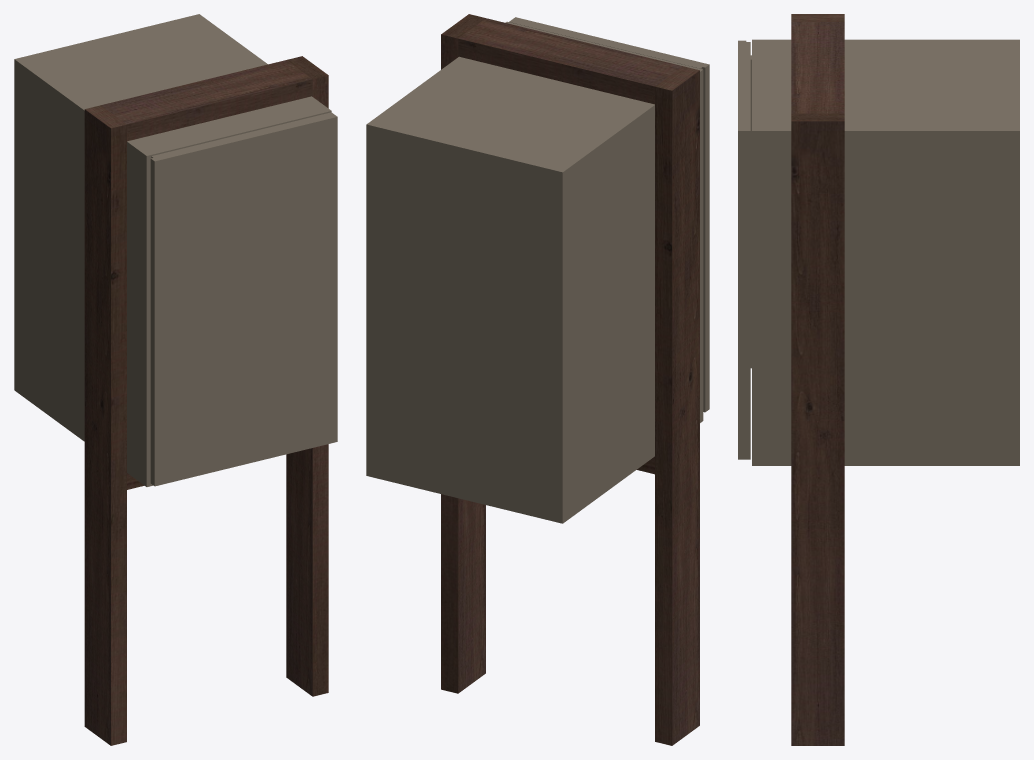
File: de-boxstand_darkpine.fbx
The picture shows the model from 3 angles, left to right: view 1: azimuth 30°, elevation 25°; view 2: azimuth 150°, elevation 25°; view 3: azimuth 270°, elevation 25°; orthographic projection. The views are drawn at different scales.
Parts seen in each view (by area): view 1: de-boxstand-darkpine; view 2: de-boxstand-darkpine; view 3: de-boxstand-darkpine.
Part boxes in pixels (x1,y1,x2,y2): de-boxstand-darkpine: (14, 14, 337, 745); de-boxstand-darkpine: (366, 14, 709, 745); de-boxstand-darkpine: (738, 14, 1019, 745).
Bounding box in the file's own units: 40.6 × 110 × 45.
3 materials, 2 textured.
